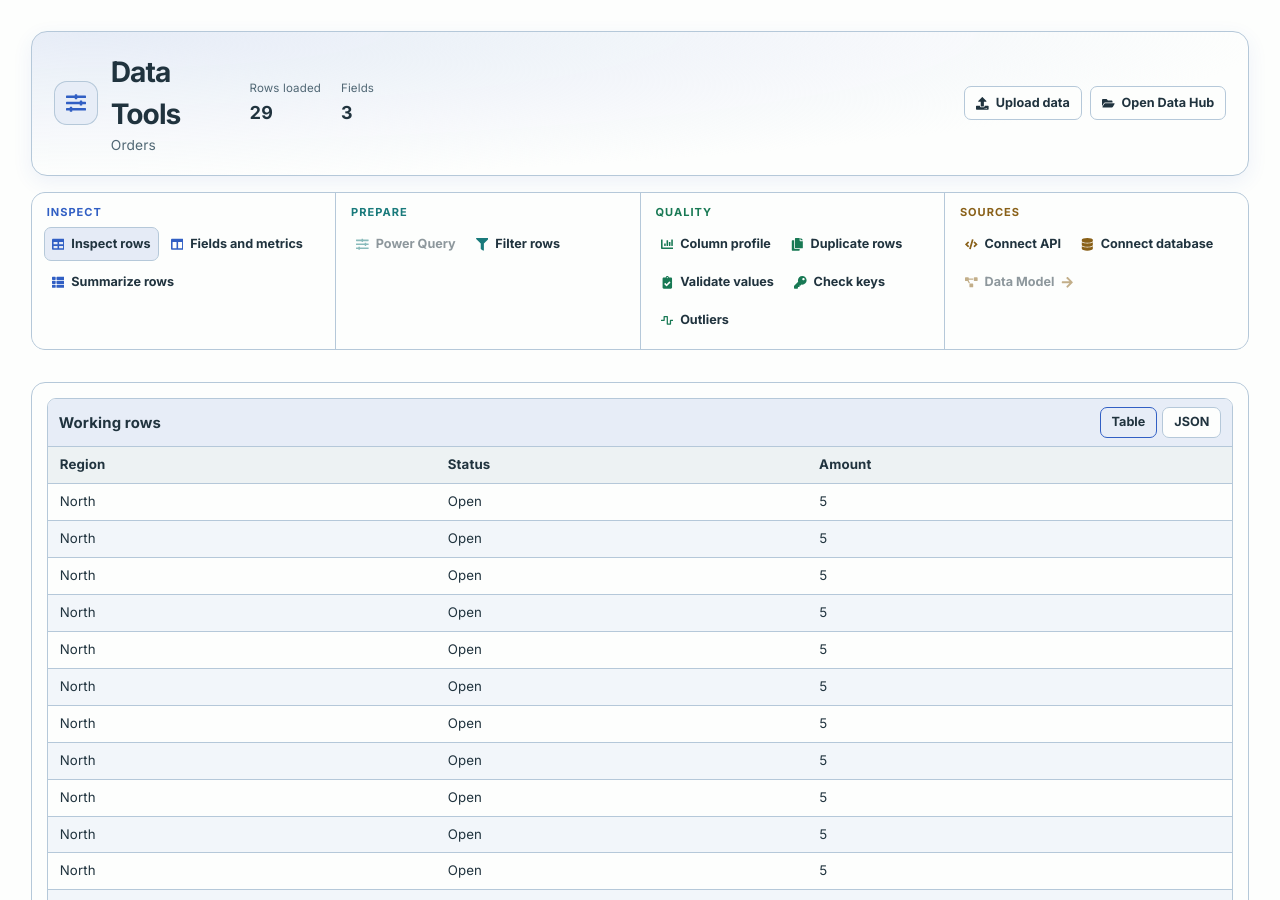
summarizes by two fields while counting null and nonnumeric measures as rows
Click the button "Summarize rows" at point(113, 282), box [44,265,182,299]
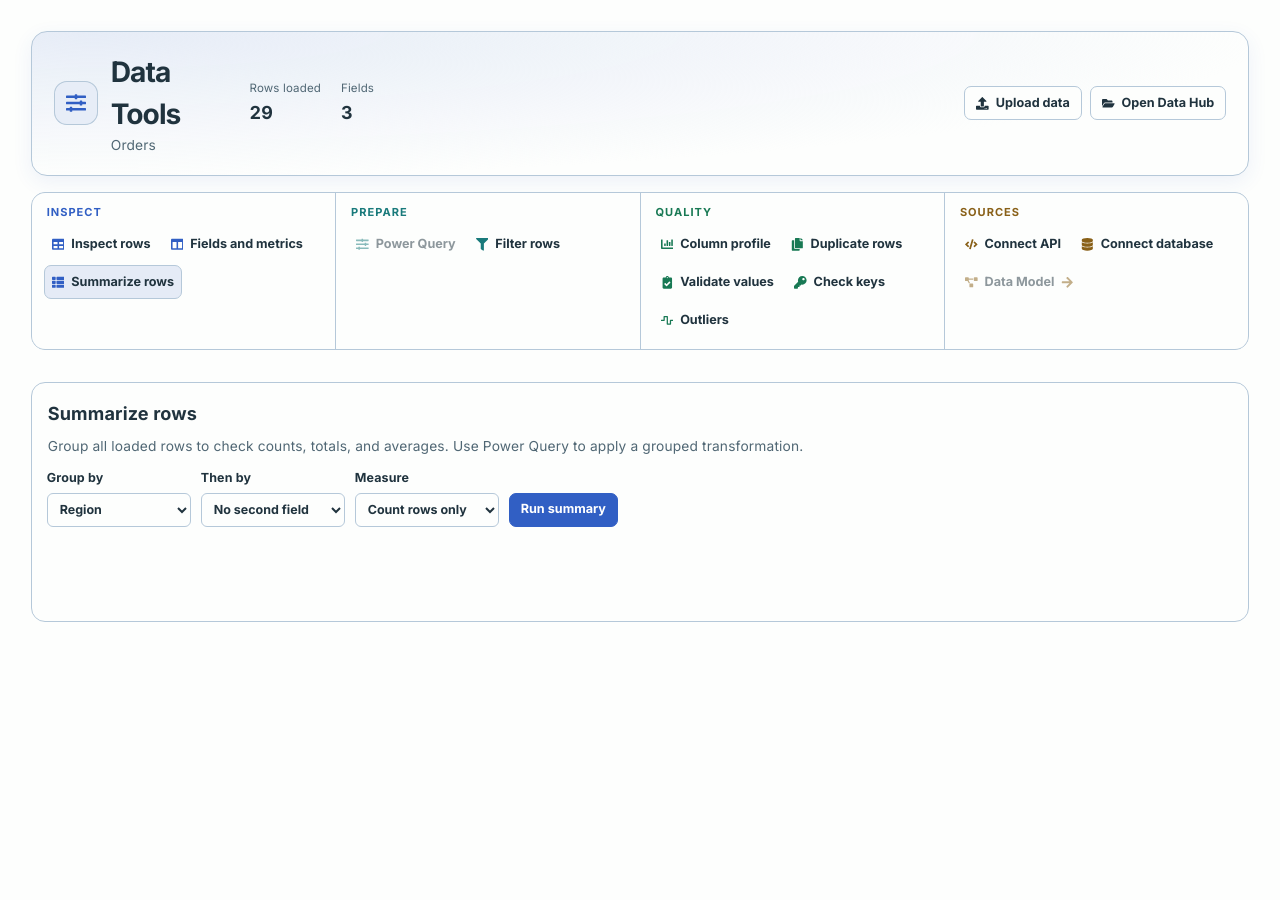
Select "Status" in the dropdown labelled "Then by" at point(273, 510), box [201,493,345,527]
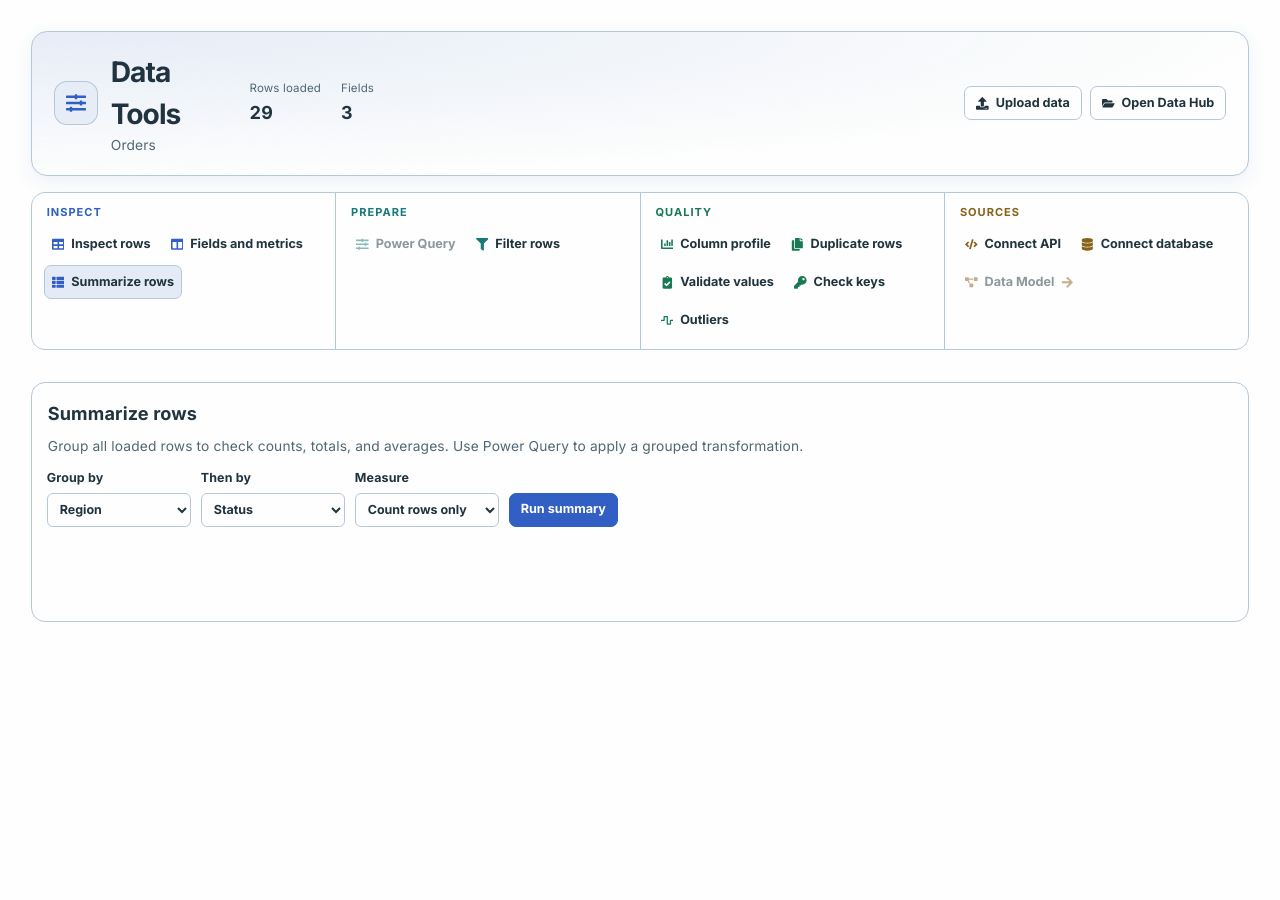
Select "Amount" in the dropdown labelled "Measure" at point(427, 510), box [355,493,499,527]
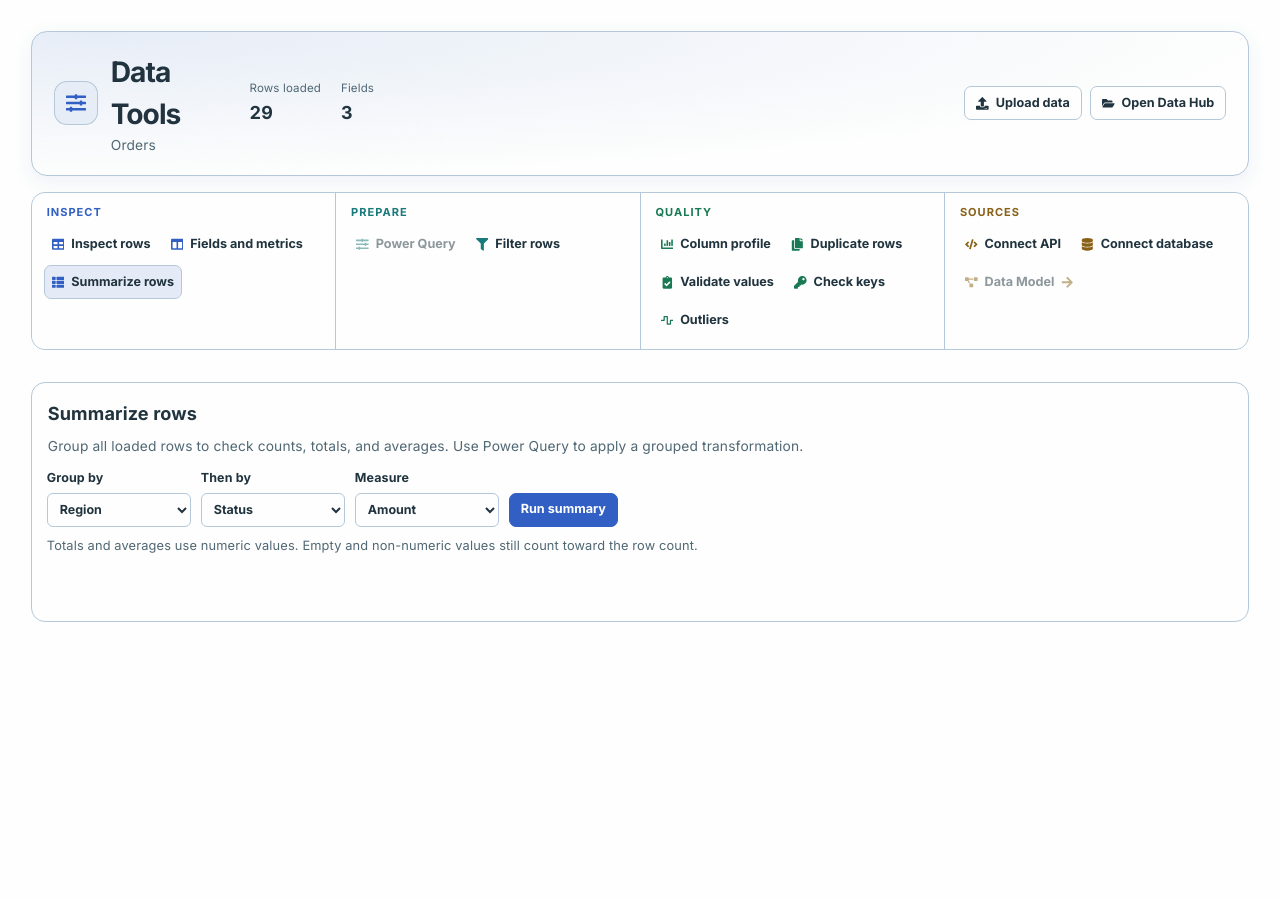
Click the button "Run summary" at point(563, 510), box [509,493,618,527]
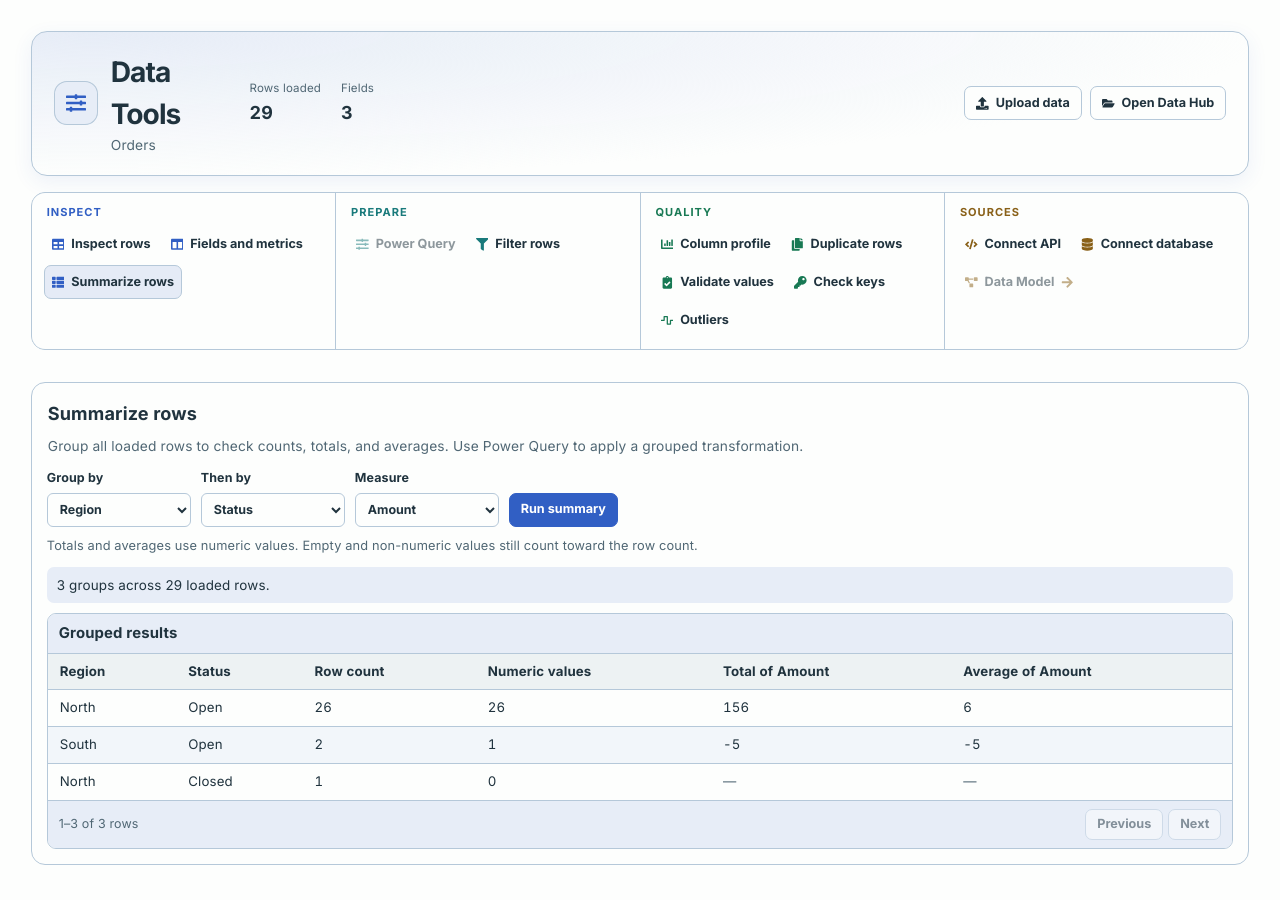
Expected: the message reads "3 groups across 29 loaded rows.", [57,577,270,593]
